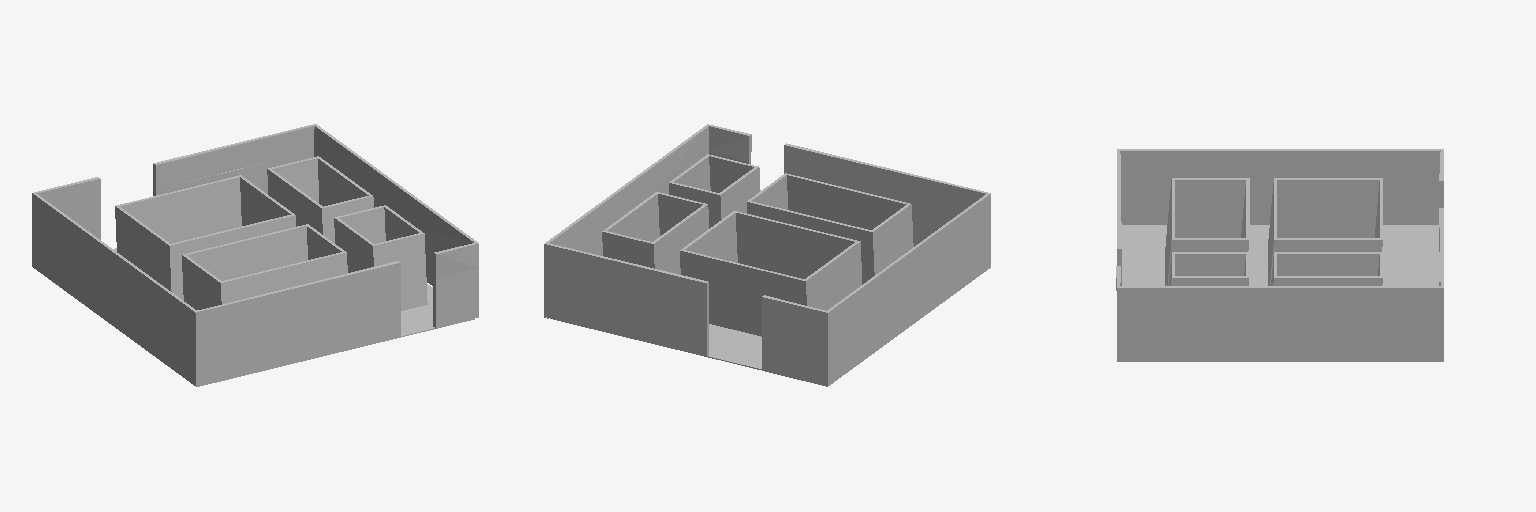
The model's file is laberinto02.obj.
3 renders of one model, left to right at view 1: azimuth 30°, elevation 25°; view 2: azimuth 150°, elevation 25°; view 3: azimuth 270°, elevation 25°, orthographic.
Parts seen in each view (by area): view 1: Cube_Cube.001, caja01_Cube.003, caja03_Cube.005, caja04_Cube.006, caja02_Cube.004, piso_Cube.002; view 2: Cube_Cube.001, caja01_Cube.003, caja03_Cube.005, caja02_Cube.004, caja04_Cube.006, piso_Cube.002; view 3: Cube_Cube.001, caja01_Cube.003, piso_Cube.002, caja03_Cube.005, caja02_Cube.004, caja04_Cube.006.
Part boxes in pixels (left/top/right/bottom): Cube_Cube.001: left=32, top=124, right=478, bottom=385; caja01_Cube.003: left=115, top=175, right=295, bottom=300; caja03_Cube.005: left=182, top=224, right=347, bottom=309; caja04_Cube.006: left=334, top=205, right=427, bottom=310; caja02_Cube.004: left=267, top=156, right=373, bottom=242; piso_Cube.002: left=68, top=248, right=474, bottom=386; Cube_Cube.001: left=544, top=124, right=990, bottom=386; caja01_Cube.003: left=680, top=211, right=861, bottom=336; caja03_Cube.005: left=747, top=173, right=913, bottom=284; caja02_Cube.004: left=602, top=192, right=708, bottom=274; caja04_Cube.006: left=669, top=154, right=760, bottom=228; piso_Cube.002: left=550, top=293, right=955, bottom=369; Cube_Cube.001: left=1116, top=149, right=1443, bottom=361; caja01_Cube.003: left=1268, top=178, right=1382, bottom=285; piso_Cube.002: left=1122, top=225, right=1438, bottom=285; caja03_Cube.005: left=1165, top=178, right=1249, bottom=285; caja02_Cube.004: left=1271, top=252, right=1382, bottom=285; caja04_Cube.006: left=1169, top=252, right=1249, bottom=285.
Size of the model in its own units: 8.03 by 2.04 by 8.05.